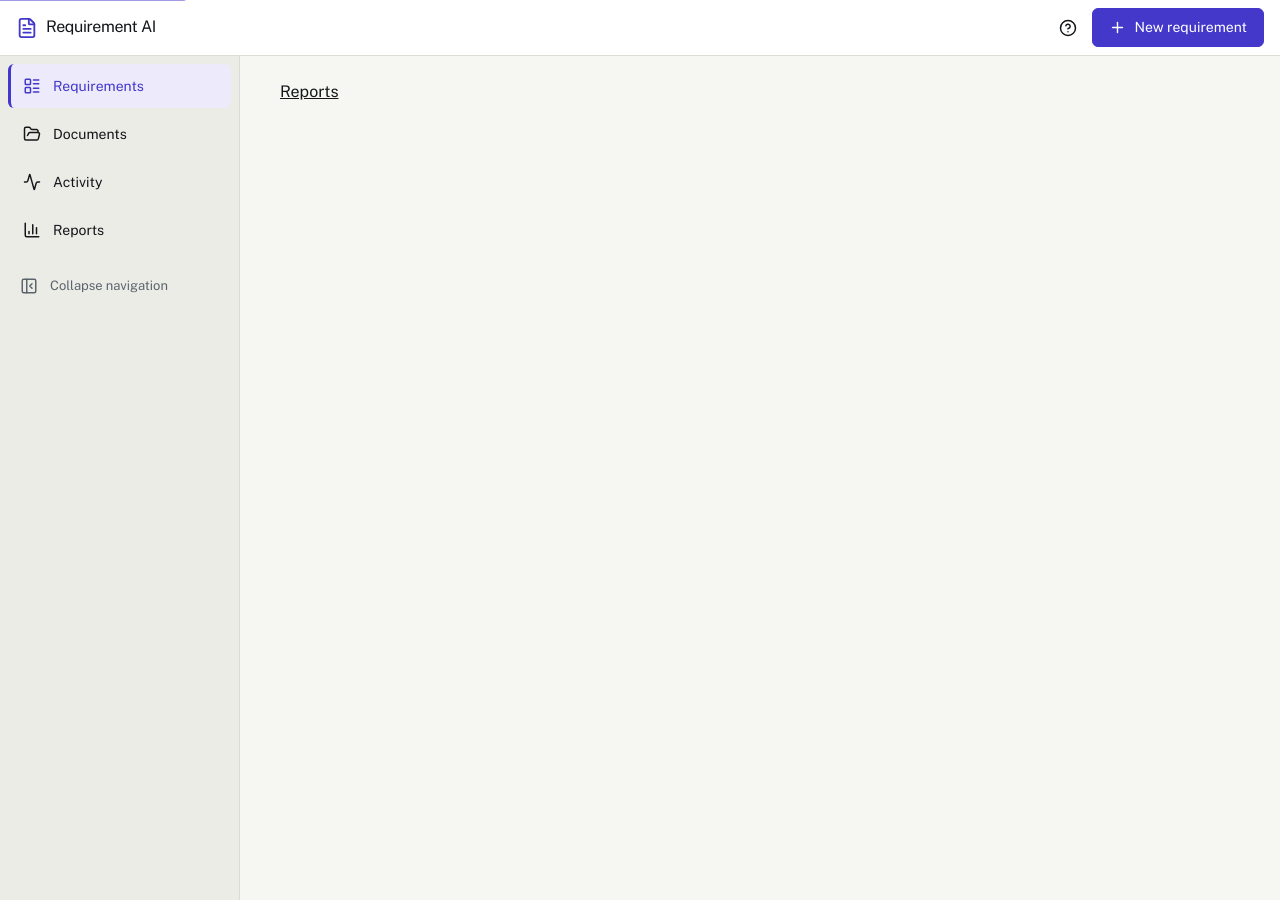
Scenario: moves focus to the new page's content when the page changes
The width and height of the screenshot is (1280, 900).
A link inside the page, which the navigation then removes.
Click the 1st link "Reports".
click(309, 92)  # box [280, 82, 338, 101]
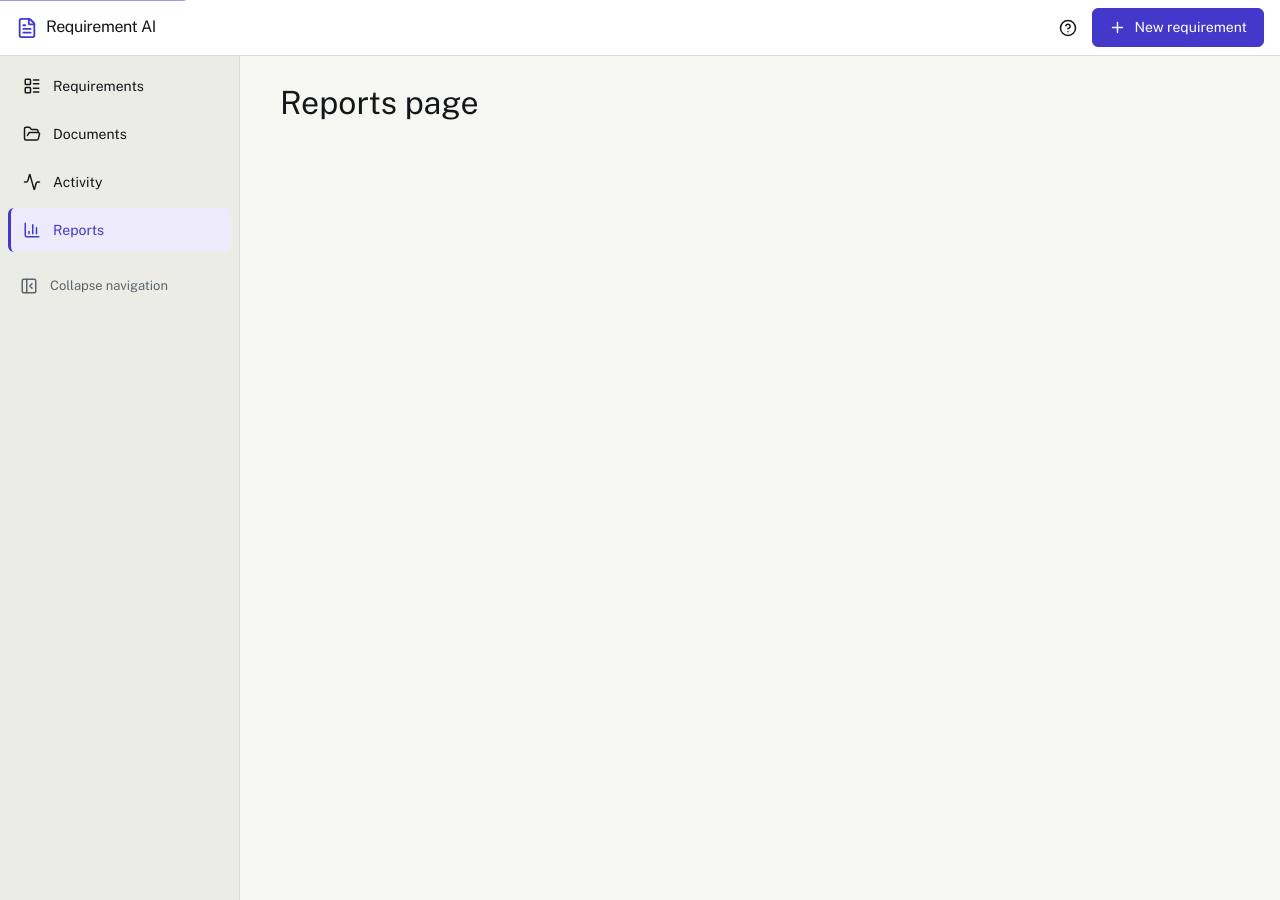
Expected: the heading "Reports page" is shown, [280, 84, 479, 121]
